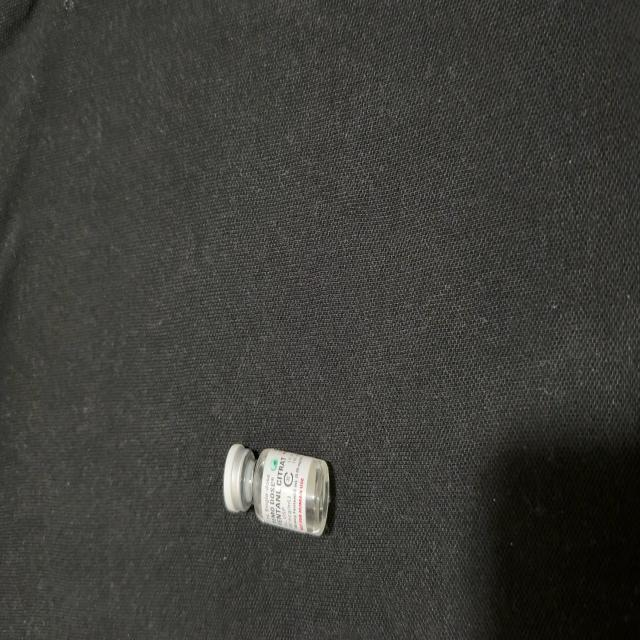fentanl_citrat: (225, 445, 331, 535)
